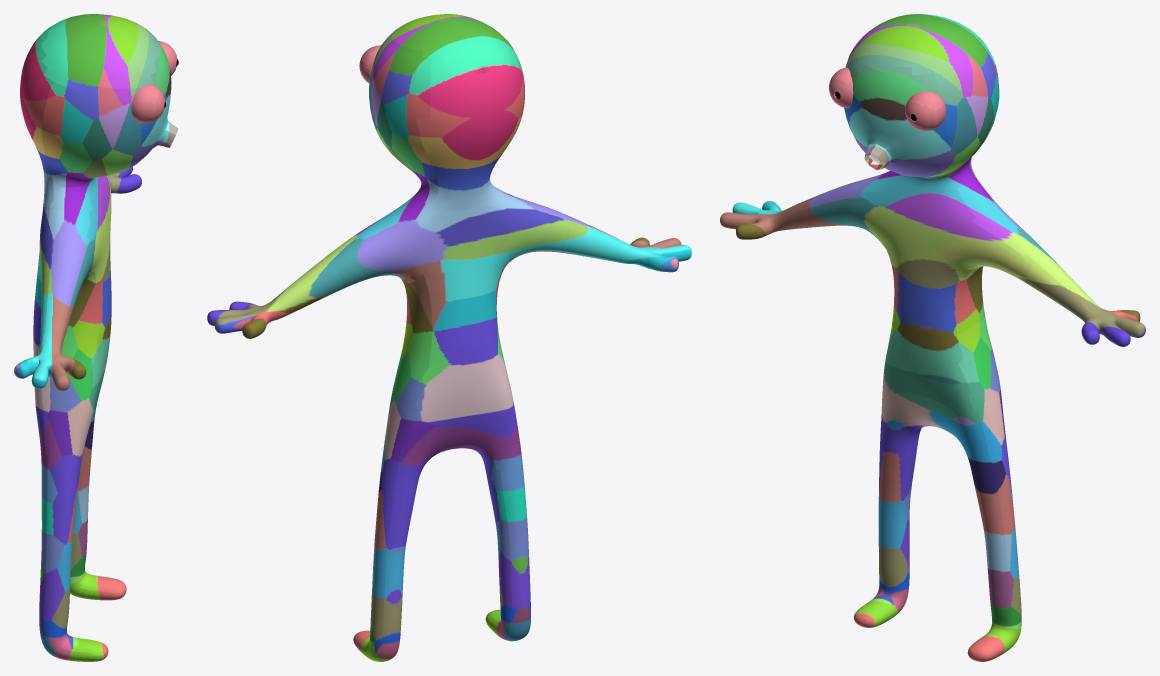
Rendered from neco2.fbx.
3 views of the same model, side by side, from view 1: azimuth 30°, elevation 25°; view 2: azimuth 150°, elevation 25°; view 3: azimuth 270°, elevation 25° (orthographic).
Parts seen in each view (by area): view 1: neco; view 2: neco; view 3: neco.
Boxes of the visible parts, x1=… form: neco: x1=14, y1=14, x2=178, y2=661; neco: x1=207, y1=14, x2=691, y2=661; neco: x1=720, y1=14, x2=1145, y2=661.
Size of the model in its own units: 110 by 221 by 138.
Materials: 4 (1 with a texture image).
